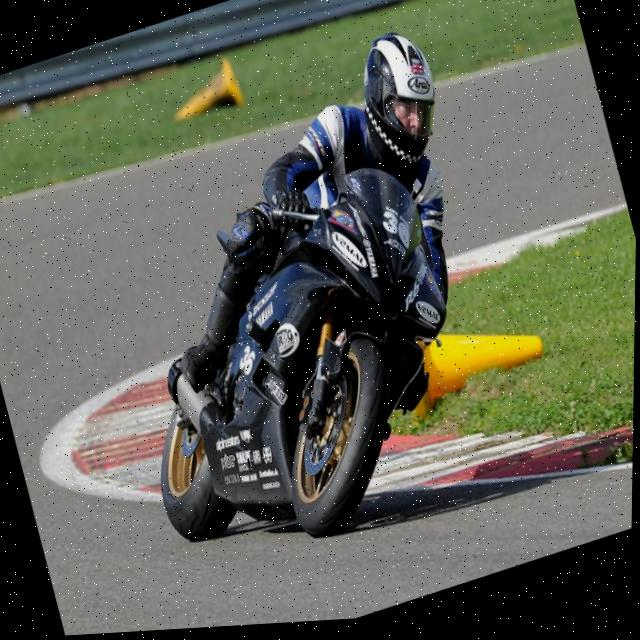motorcycle: (69, 93, 553, 599)
